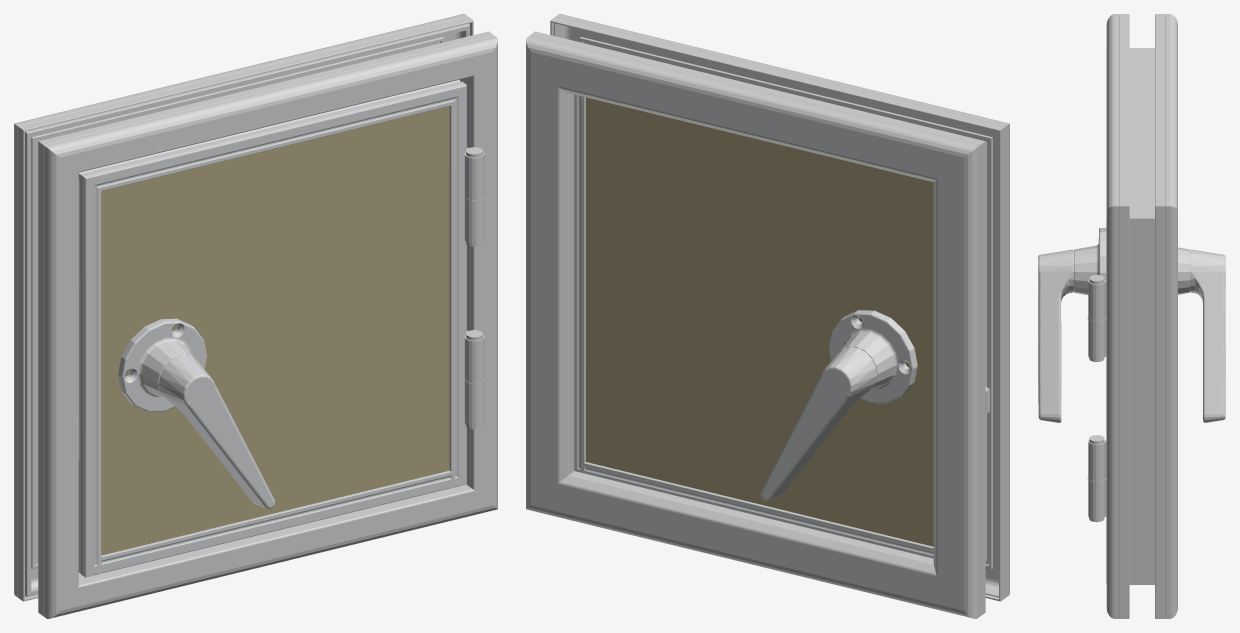
3 renders of one model, left to right at view 1: azimuth 30°, elevation 25°; view 2: azimuth 150°, elevation 25°; view 3: azimuth 270°, elevation 25°, orthographic. The views are drawn at different scales.
Visible parts, largest first — view 1: DR40_最小; view 2: DR40_最小; view 3: DR40_最小.
Part boxes in pixels (box(x1,y1,x2,y2)): DR40_最小: box(14, 14, 497, 618); DR40_最小: box(526, 14, 1009, 618); DR40_最小: box(1038, 14, 1225, 618).
Bounding box in the file's own units: 420 × 420 × 173.
